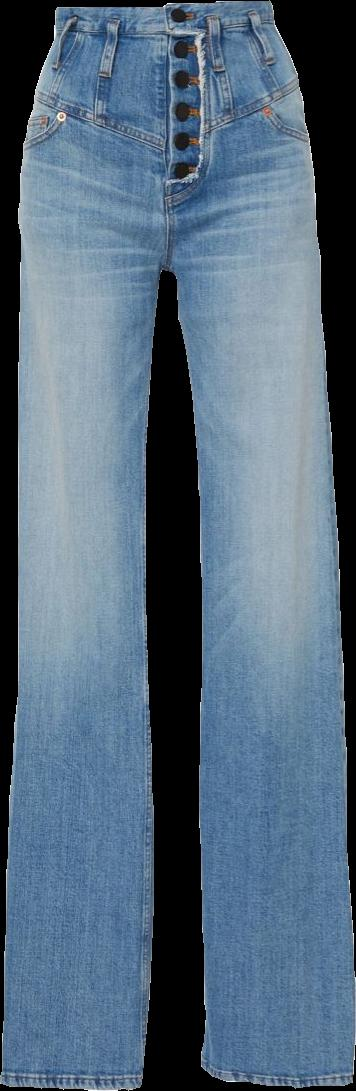Hemline: (197, 1059, 355, 1089), (0, 1074, 139, 1090)
Pantleg: (159, 1, 354, 1086), (1, 6, 173, 1087)
Waistline: (31, 75, 303, 163), (51, 17, 281, 43), (51, 0, 272, 19)
